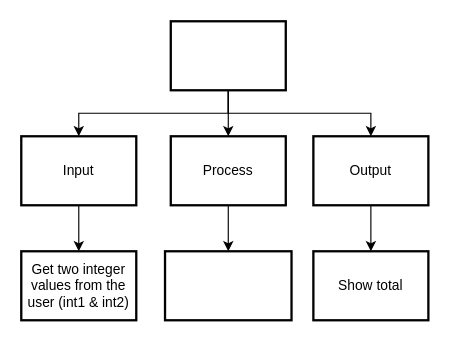
Image size: 449x340. Some labels were removed from this diagram. Each missing label, with the box of its shape:
Integer Addition: (169, 20, 286, 91)
total = int1 + int2: (163, 250, 292, 321)
